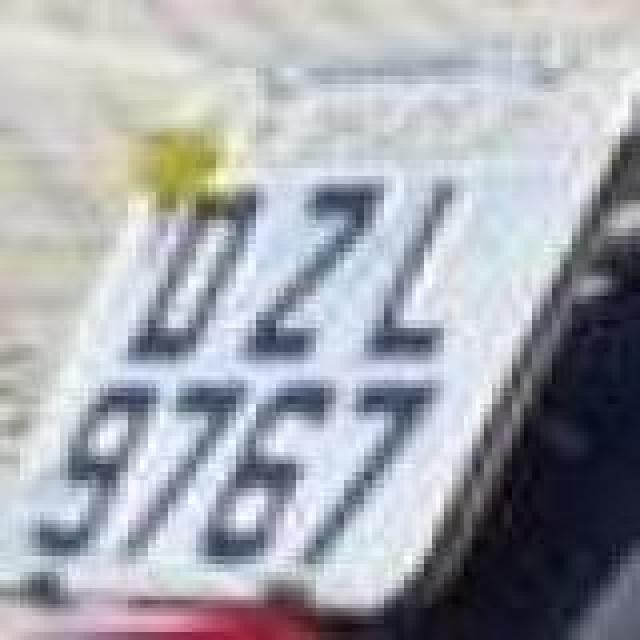6: (198, 380, 346, 564)
7: (292, 374, 460, 570), (114, 380, 254, 556)
9: (26, 380, 166, 556)
D: (118, 184, 266, 360)
L: (358, 174, 474, 370)
Z: (242, 178, 390, 366)
